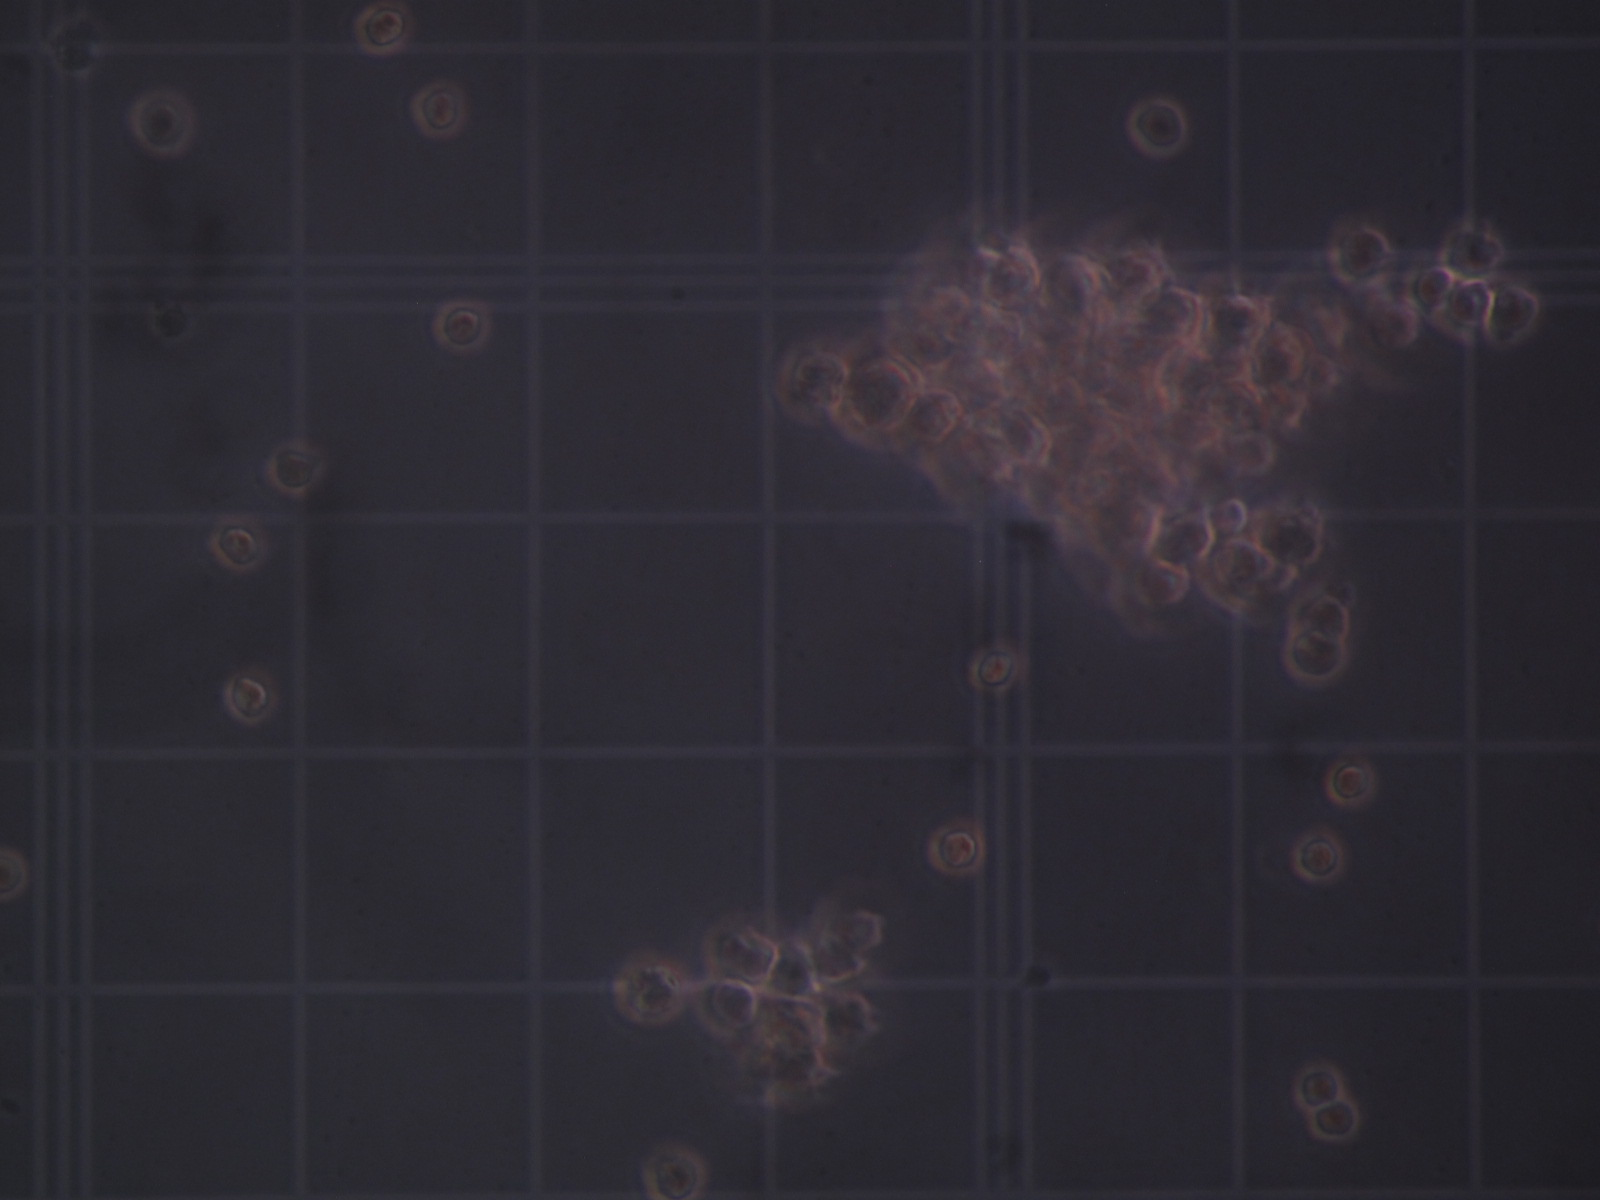hemo: (840, 343, 913, 451), (774, 342, 847, 427), (610, 950, 688, 1025), (698, 919, 779, 989), (1249, 502, 1327, 567), (126, 86, 197, 158), (898, 387, 960, 464), (692, 976, 761, 1037), (637, 1142, 709, 1200), (1327, 223, 1390, 286), (1129, 555, 1191, 616), (1250, 321, 1305, 388), (1136, 287, 1203, 343), (818, 894, 884, 949), (1126, 100, 1189, 158), (927, 821, 986, 881), (1109, 250, 1164, 314), (985, 246, 1042, 308), (431, 297, 493, 353), (1488, 280, 1538, 347), (1158, 508, 1216, 566), (220, 666, 278, 724), (409, 81, 467, 139), (267, 439, 326, 495), (210, 516, 268, 571), (1443, 228, 1507, 277), (354, 1, 412, 55), (1288, 629, 1347, 682), (1295, 590, 1354, 640), (1291, 1060, 1347, 1111), (1324, 756, 1376, 809), (1403, 265, 1455, 316), (1450, 277, 1494, 338), (1293, 833, 1342, 886), (1212, 297, 1266, 345), (964, 647, 1017, 692), (1308, 1099, 1363, 1142), (1230, 431, 1276, 479), (1209, 495, 1249, 536)
